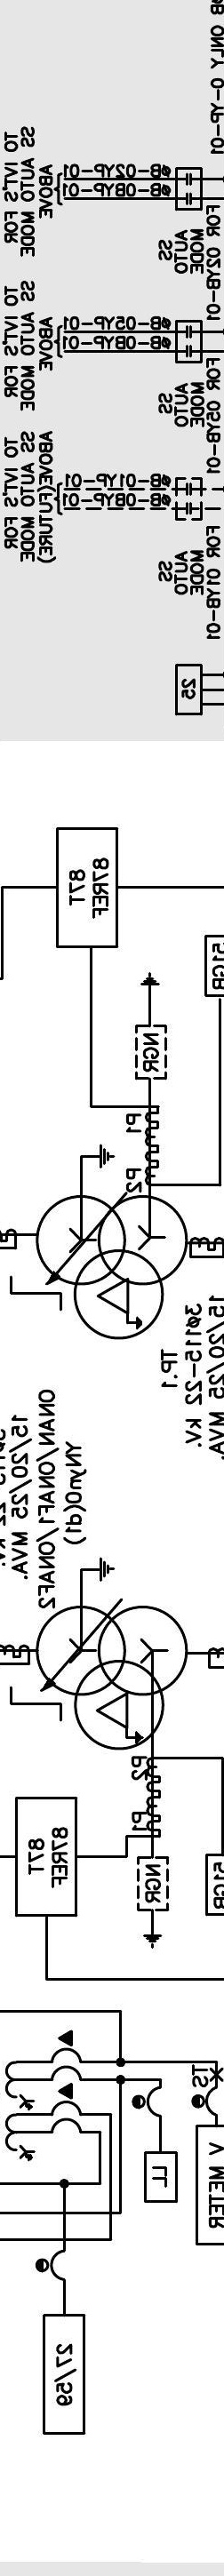11522_tx_ynyn0d1: (35, 1194, 189, 1341), (35, 1605, 189, 1751)
LL: (143, 2150, 180, 2203)
NGR_future: (135, 971, 168, 1081), (137, 1855, 170, 1950)
